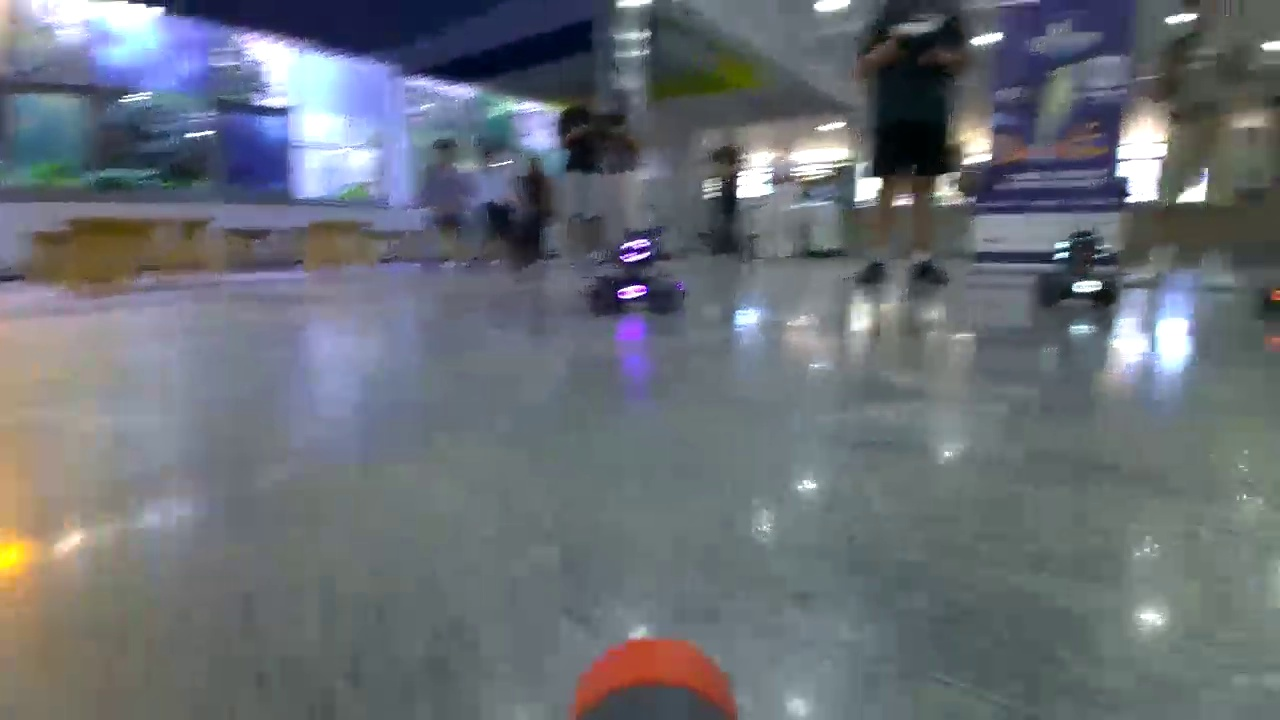robot: (589, 230, 687, 312), (1039, 231, 1119, 307)
